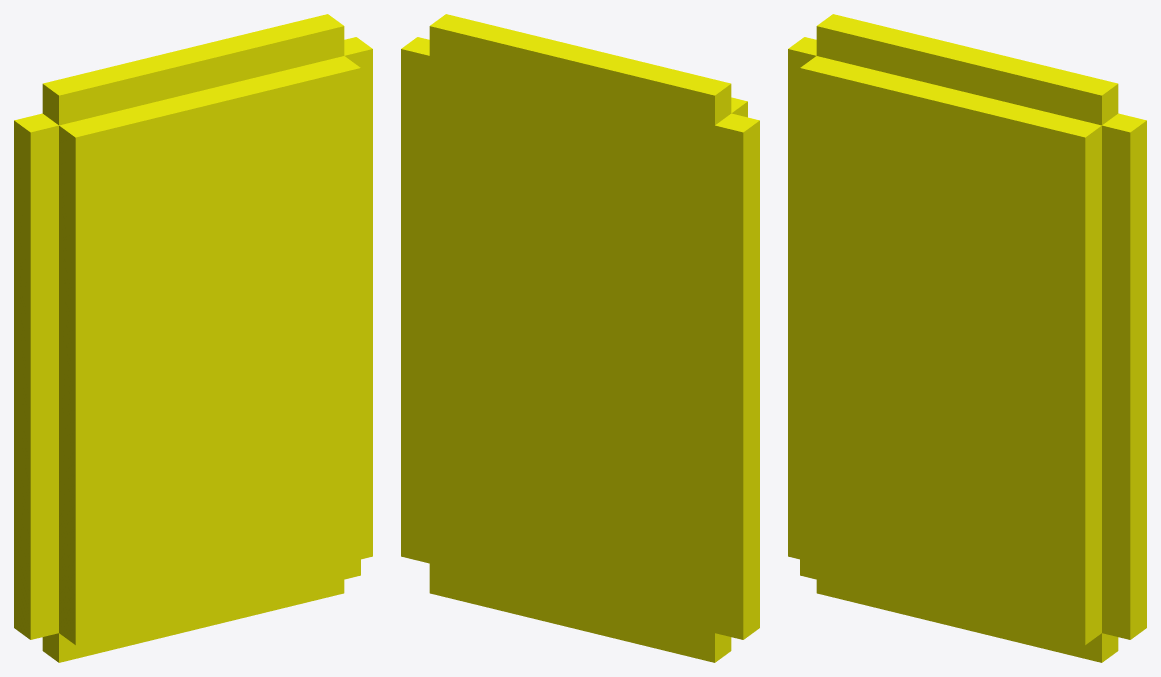
File: voxel-rangers-shield.glb
The picture shows the model from 3 angles, left to right: view 1: azimuth 30°, elevation 25°; view 2: azimuth 150°, elevation 25°; view 3: azimuth 330°, elevation 25°; orthographic projection.
Parts seen in each view (by area): view 1: VS_Rangers_Props_Shield_001; view 2: VS_Rangers_Props_Shield_001; view 3: VS_Rangers_Props_Shield_001.
Part boxes in pixels (box(x1,y1,x2,y2)): VS_Rangers_Props_Shield_001: box(14, 14, 372, 662); VS_Rangers_Props_Shield_001: box(401, 14, 759, 662); VS_Rangers_Props_Shield_001: box(788, 14, 1146, 662).
Size of the model in its own units: 1.2 by 1.9 by 0.1999.
